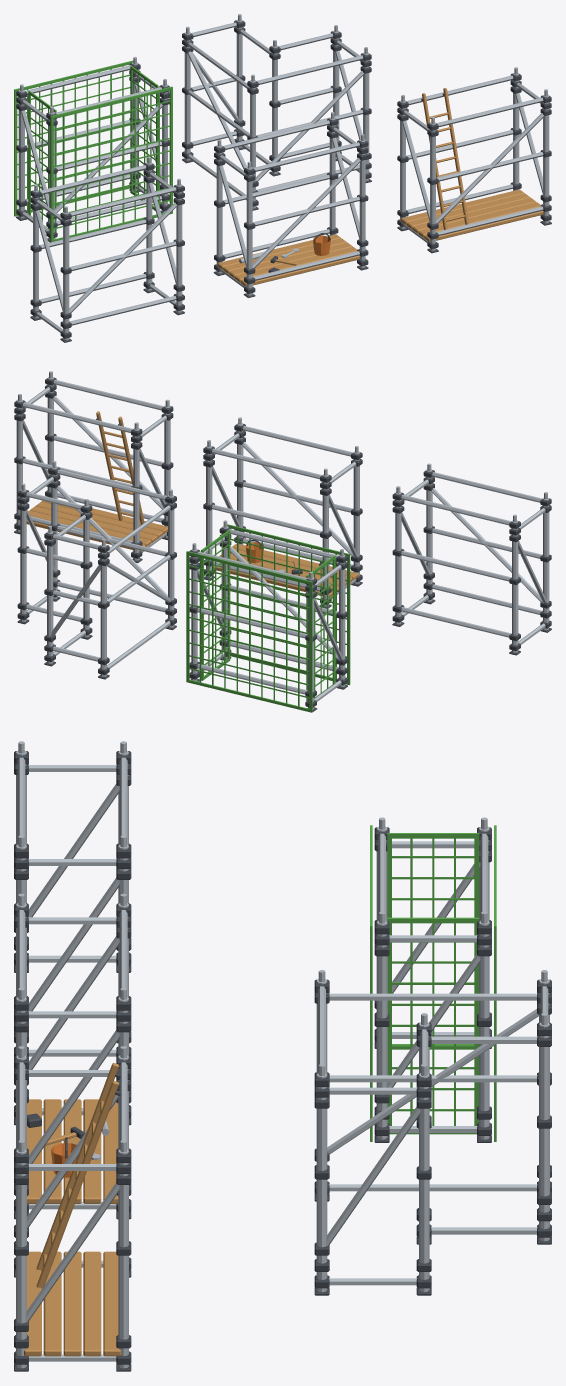
Rendered from scaffolding-kit.glb.
The picture shows the model from 3 angles, top to bottom: view 1: azimuth 30°, elevation 25°; view 2: azimuth 150°, elevation 25°; view 3: azimuth 270°, elevation 25°; orthographic projection. The views are drawn at different scales.
Parts seen in each view (by area): view 1: Scaffold_Bay_Net, Scaffold_Ladder, Scaffold_Bay_Deck, Scaffold_Corner, Scaffold_Bay; view 2: Scaffold_Bay_Net, Scaffold_Corner, Scaffold_Ladder, Scaffold_Bay_Deck, Scaffold_Bay; view 3: Scaffold_Ladder, Scaffold_Corner, Scaffold_Bay_Net, Scaffold_Bay_Deck, Scaffold_Bay.
Boxes of the visible parts, bbox=[...] form: Scaffold_Bay_Net: bbox=[14, 56, 172, 242]; Scaffold_Ladder: bbox=[397, 67, 551, 253]; Scaffold_Bay_Deck: bbox=[213, 112, 368, 297]; Scaffold_Corner: bbox=[182, 14, 371, 210]; Scaffold_Bay: bbox=[30, 156, 184, 342]; Scaffold_Bay_Net: bbox=[186, 520, 350, 712]; Scaffold_Corner: bbox=[17, 461, 176, 679]; Scaffold_Ladder: bbox=[14, 371, 173, 562]; Scaffold_Bay_Deck: bbox=[203, 417, 362, 608]; Scaffold_Bay: bbox=[392, 463, 551, 655]; Scaffold_Ladder: bbox=[14, 1046, 131, 1371]; Scaffold_Corner: bbox=[314, 970, 551, 1295]; Scaffold_Bay_Net: bbox=[370, 817, 496, 1142]; Scaffold_Bay_Deck: bbox=[14, 893, 131, 1219]; Scaffold_Bay: bbox=[14, 741, 131, 1056].
Size of the model in its own units: 31.9 by 8.35 by 17.9.
